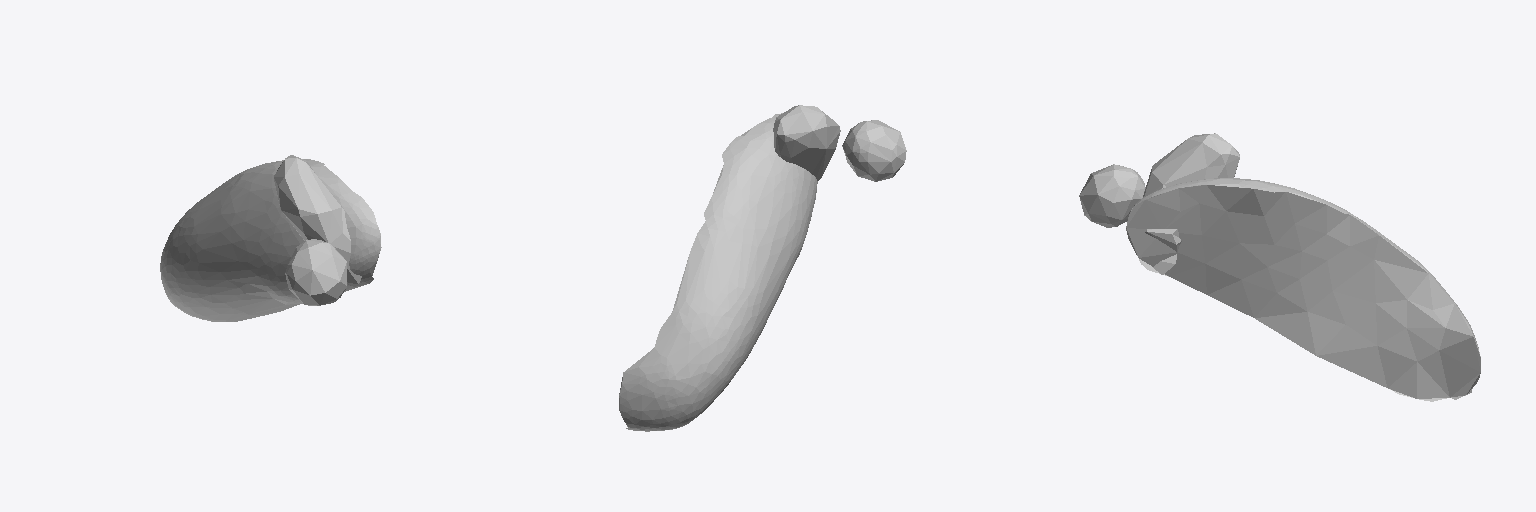
File: Pineal_gland1.obj
3 renders of one model, left to right at view 1: azimuth 30°, elevation 25°; view 2: azimuth 150°, elevation 25°; view 3: azimuth 270°, elevation 25°, orthographic.
Visible parts, largest first — view 1: obj0; view 2: obj0; view 3: obj0.
Part boxes in pixels (x1,y1,x2,y2): obj0: (160,155,381,321); obj0: (619,105,906,431); obj0: (1079,133,1480,401).
Size of the model in its own units: 1.78 by 4.19 by 6.18.